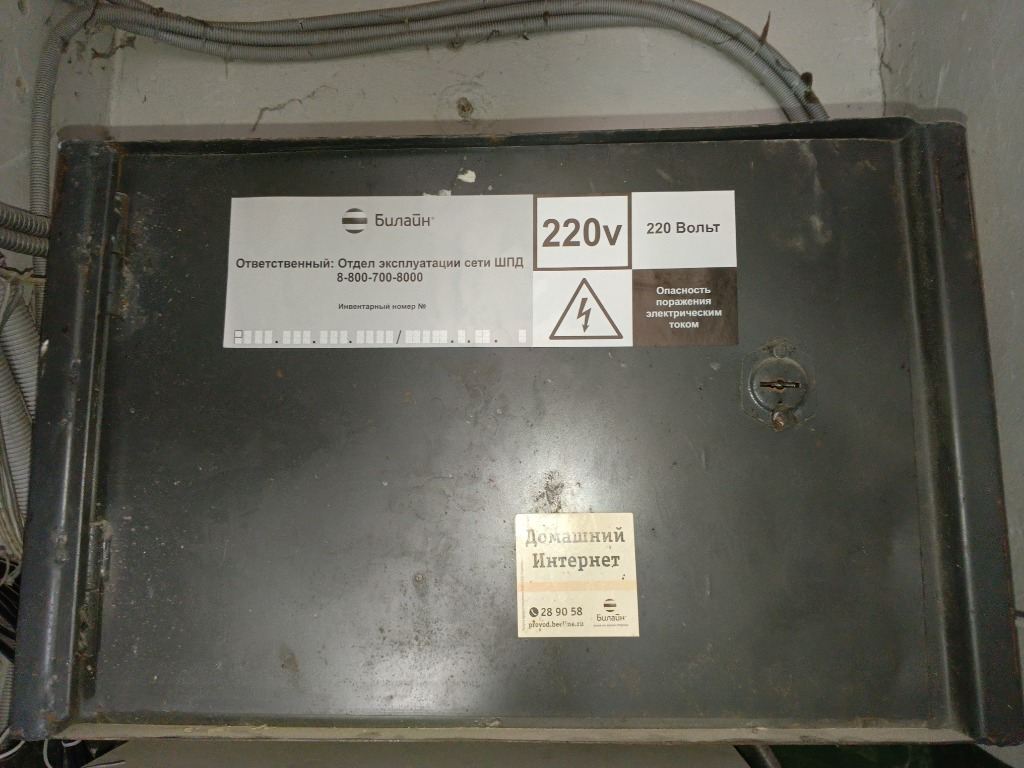e2-6u: (2, 117, 1018, 746)
